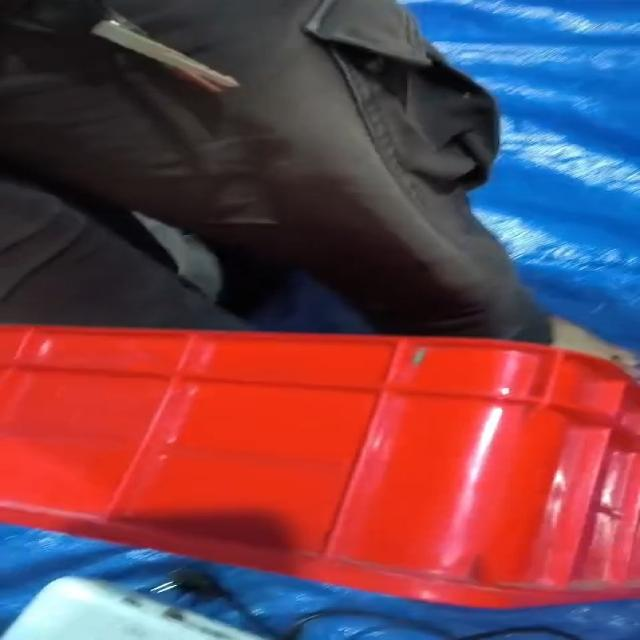red plastic box: (0, 325, 639, 610)
